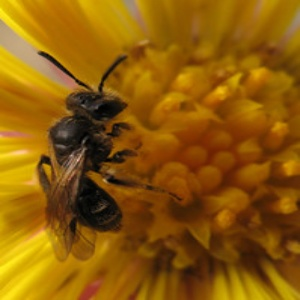bee: (35, 48, 137, 261)
